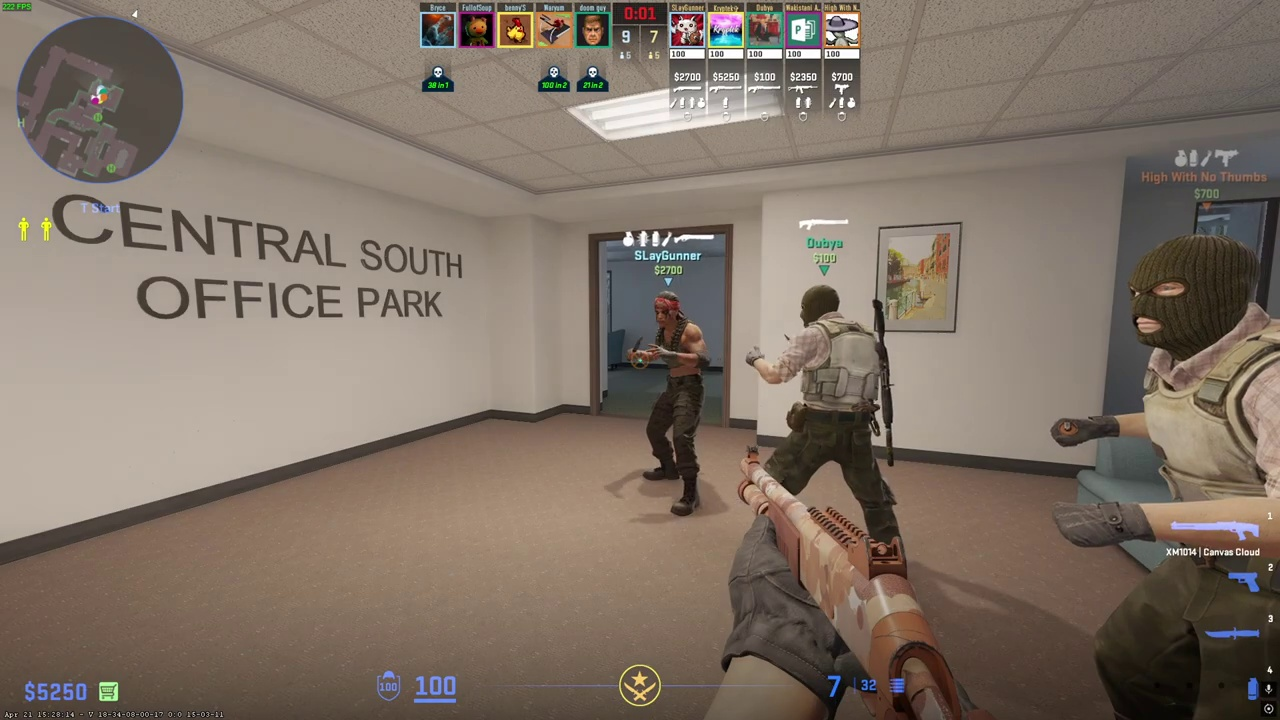Terrorist: (1086, 235, 1280, 720), (767, 284, 895, 511), (642, 291, 711, 514)
